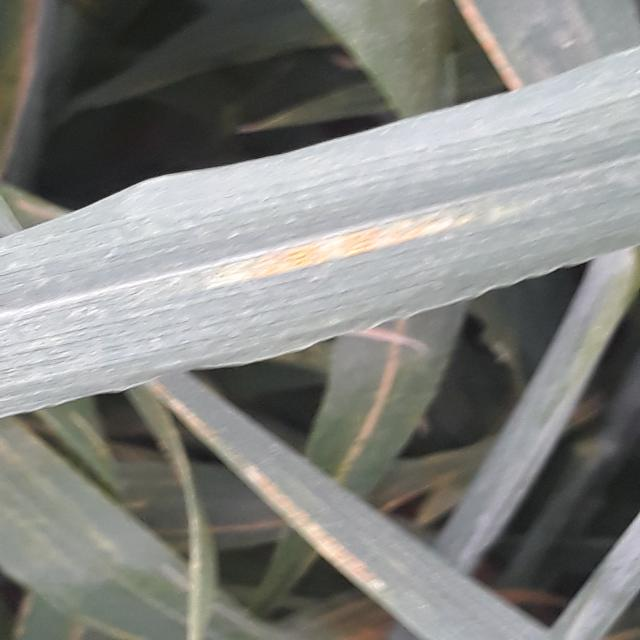yellow_rust: (25, 29, 632, 594)
